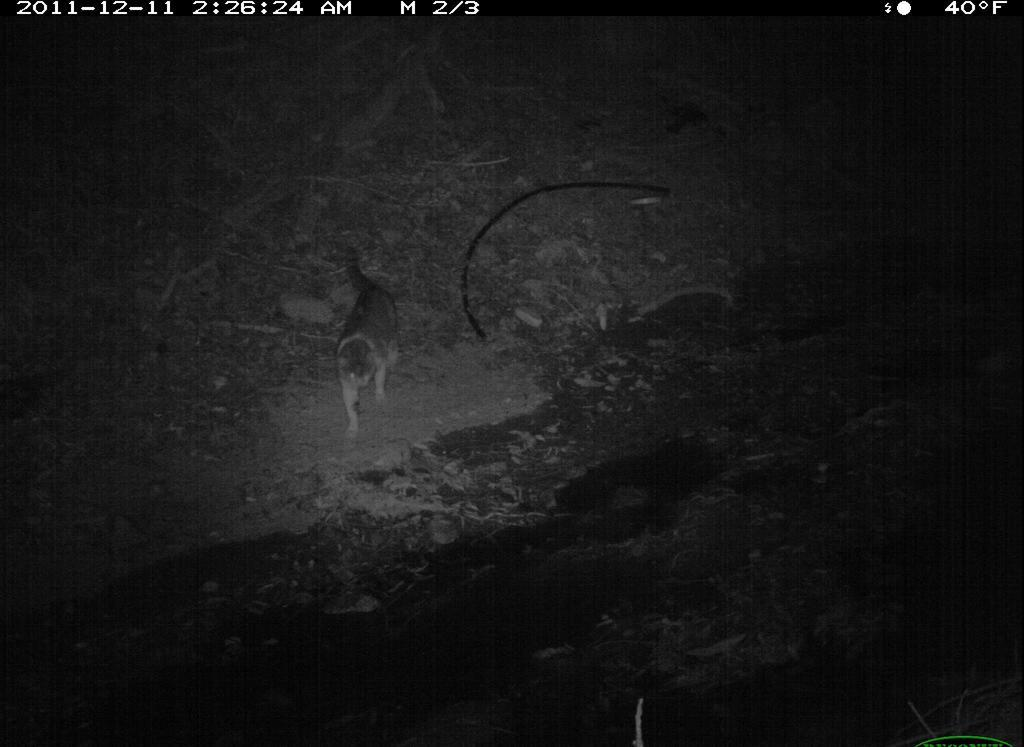cat: (330, 242, 405, 445)
